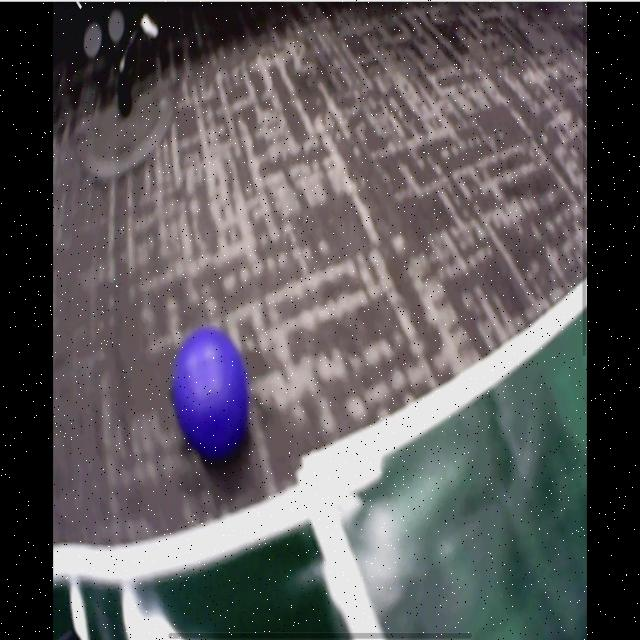ball: (172, 328, 250, 456)
